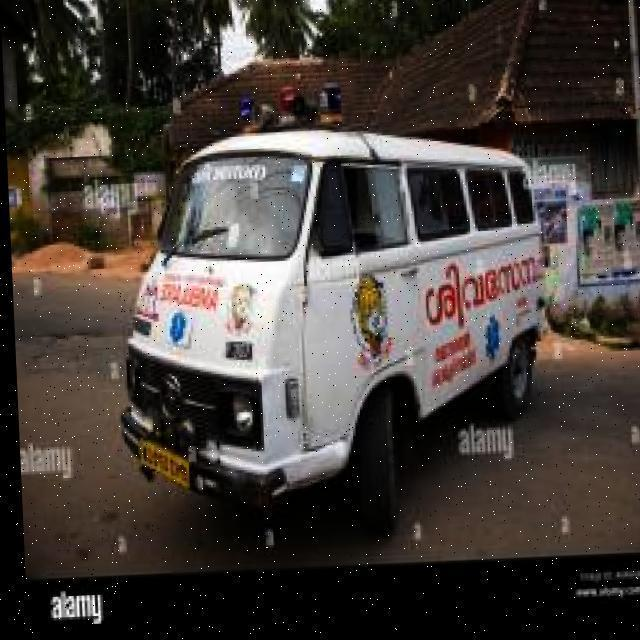Ambulance: (9, 245, 640, 579), (101, 95, 557, 548)
